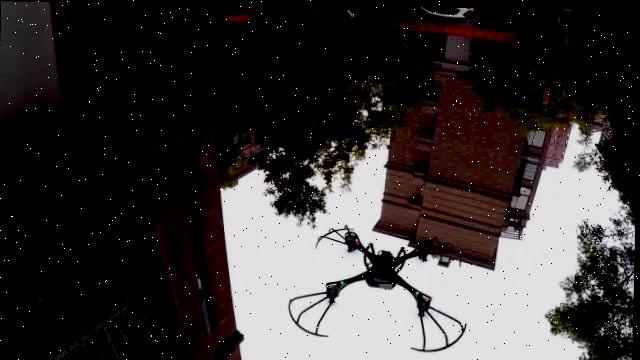drone: (286, 215, 472, 354)
